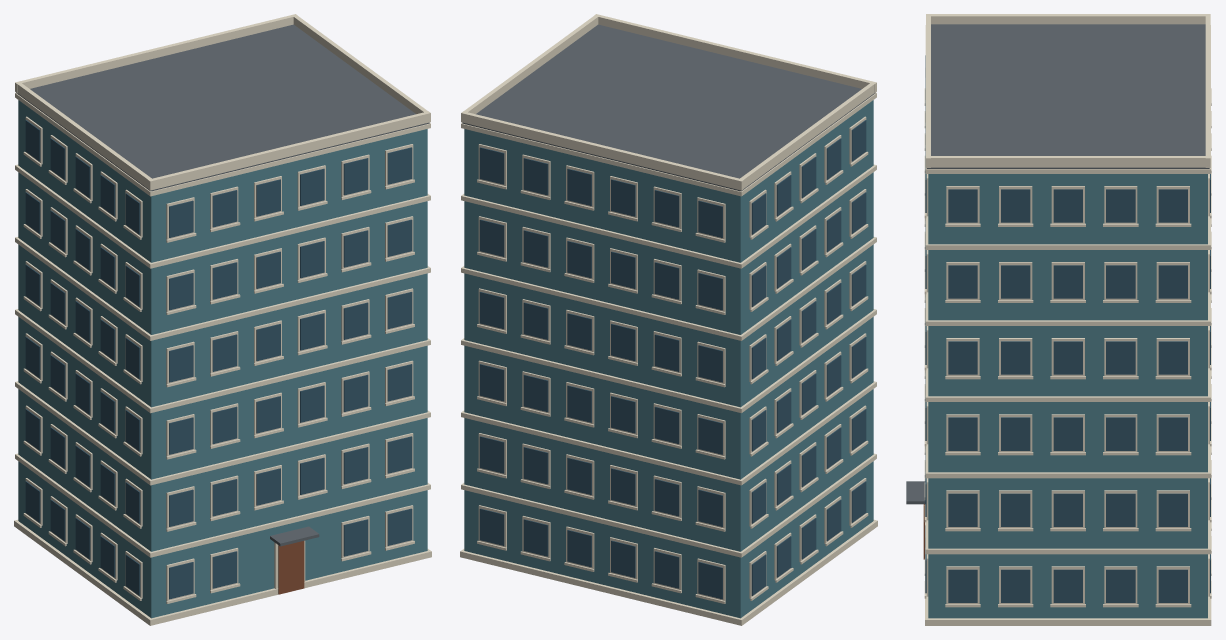
File: 08-office.glb
The picture shows the model from 3 angles, left to right: view 1: azimuth 30°, elevation 25°; view 2: azimuth 150°, elevation 25°; view 3: azimuth 270°, elevation 25°; orthographic projection. The views are drawn at different scales.
Parts seen in each view (by area): view 1: 08-office; view 2: 08-office; view 3: 08-office.
Part boxes in pixels (<box>): 08-office: <box>14,14,431,625</box>; 08-office: <box>460,14,877,625</box>; 08-office: <box>906,14,1211,625</box>.
Size of the model in its own units: 12.26 by 18.44 by 10.92.
